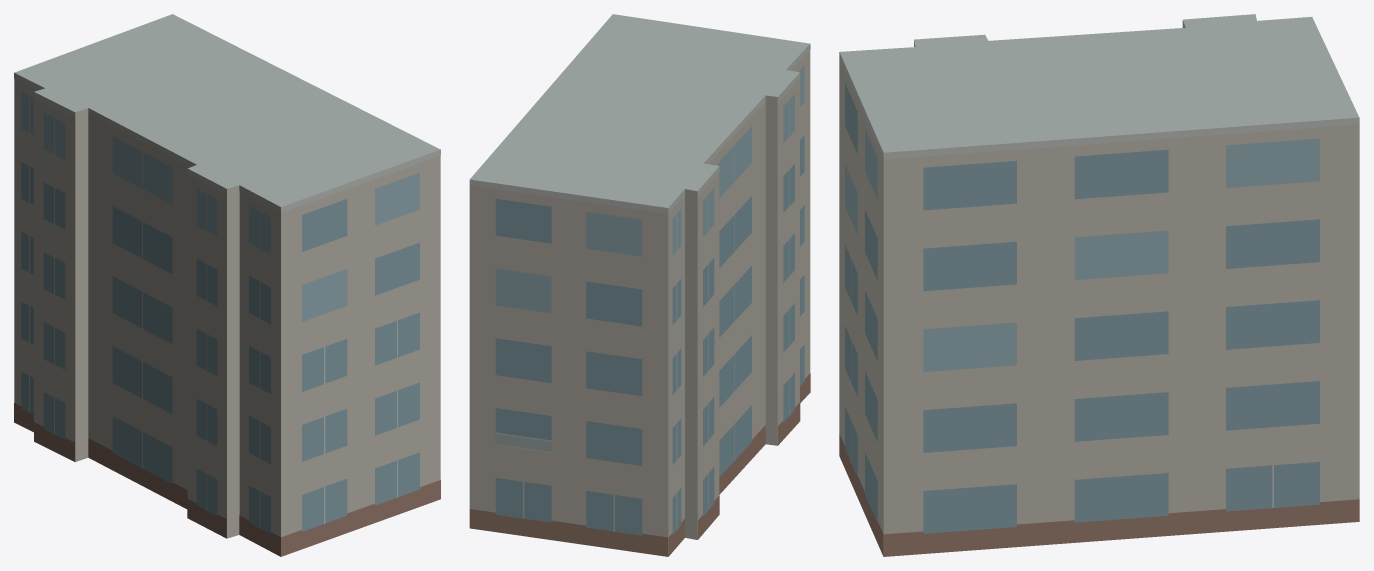
File: survey-upis-32696853.glb
The picture shows the model from 3 angles, left to right: view 1: azimuth 30°, elevation 25°; view 2: azimuth 150°, elevation 25°; view 3: azimuth 270°, elevation 25°; orthographic projection. The views are drawn at different scales.
Parts seen in each view (by area): view 1: survey-upis-32696853.tmp; view 2: survey-upis-32696853.tmp; view 3: survey-upis-32696853.tmp.
Boxes of the visible parts, x1=… form: survey-upis-32696853.tmp: x1=14, y1=14, x2=440, y2=556; survey-upis-32696853.tmp: x1=469, y1=14, x2=810, y2=556; survey-upis-32696853.tmp: x1=839, y1=14, x2=1359, y2=556.
Bounding box in the file's own units: 10.61 × 14.4 × 16.8.
